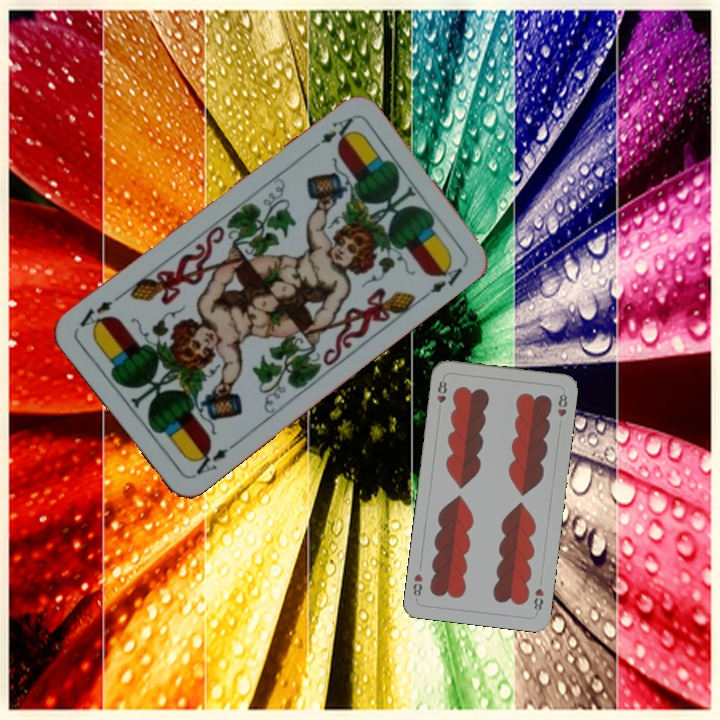EA: (186, 438, 240, 479), (305, 113, 356, 154)
H8: (530, 584, 547, 616), (433, 377, 449, 405)
